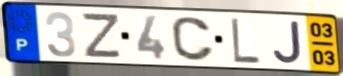3: (44, 10, 78, 58)
4: (135, 13, 168, 61)
C: (169, 15, 217, 63)
J: (271, 19, 304, 65)
L: (229, 16, 263, 66)
Z: (82, 12, 123, 60)
